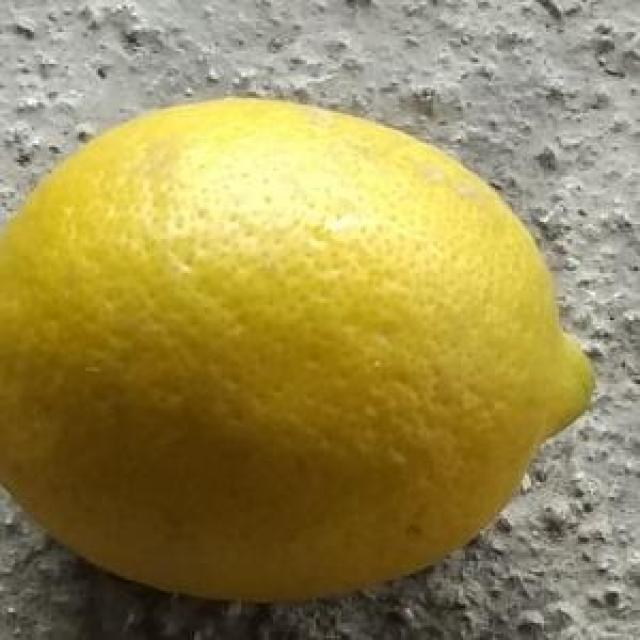lemon: (0, 93, 598, 607)
